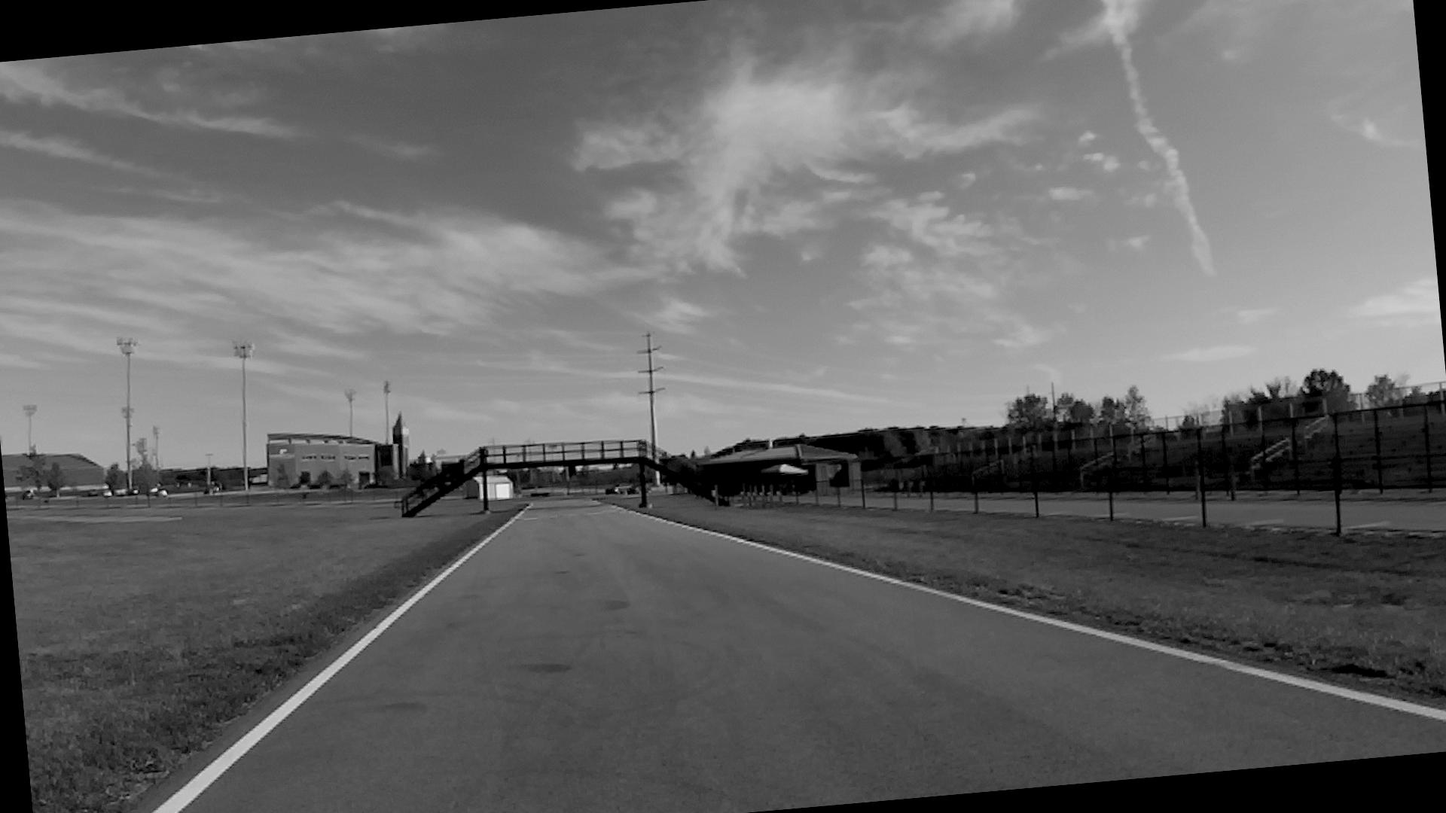white-line: (634, 512, 1446, 721), (148, 510, 523, 813)
